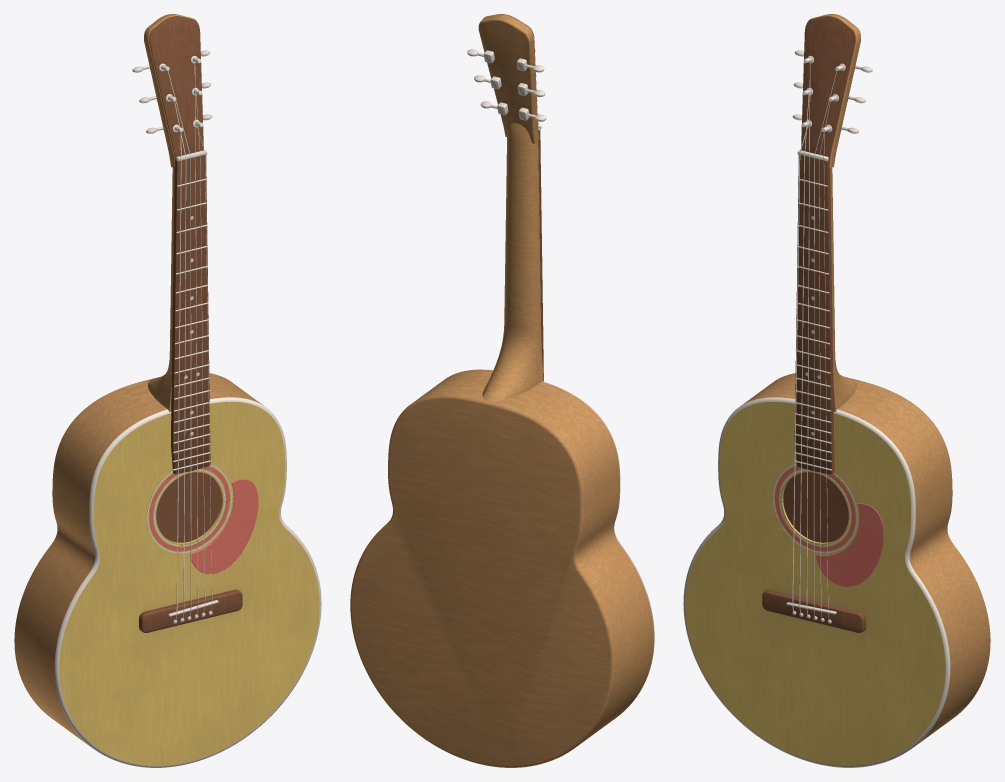
Rendered from acoustic-guitar-cc0.glb.
The picture shows the model from 3 angles, left to right: view 1: azimuth 30°, elevation 25°; view 2: azimuth 150°, elevation 25°; view 3: azimuth 330°, elevation 25°; orthographic projection.
Visible parts, largest first — view 1: acoustic-guitar_body, acoustic-guitar_neck, acoustic-guitar_strings; view 2: acoustic-guitar_body, acoustic-guitar_neck; view 3: acoustic-guitar_body, acoustic-guitar_neck, acoustic-guitar_strings.
Part boxes in pixels (left/top/right/bottom): acoustic-guitar_body: left=14, top=373, right=321, bottom=767; acoustic-guitar_neck: left=132, top=14, right=212, bottom=474; acoustic-guitar_strings: left=168, top=61, right=212, bottom=620; acoustic-guitar_body: left=350, top=369, right=654, bottom=767; acoustic-guitar_neck: left=467, top=14, right=546, bottom=401; acoustic-guitar_body: left=683, top=373, right=990, bottom=767; acoustic-guitar_neck: left=792, top=14, right=872, bottom=474; acoustic-guitar_strings: left=792, top=61, right=836, bottom=620.
Bounding box in the file's own units: 0.4 × 1.06 × 0.1336.
3 materials, 2 textured.
